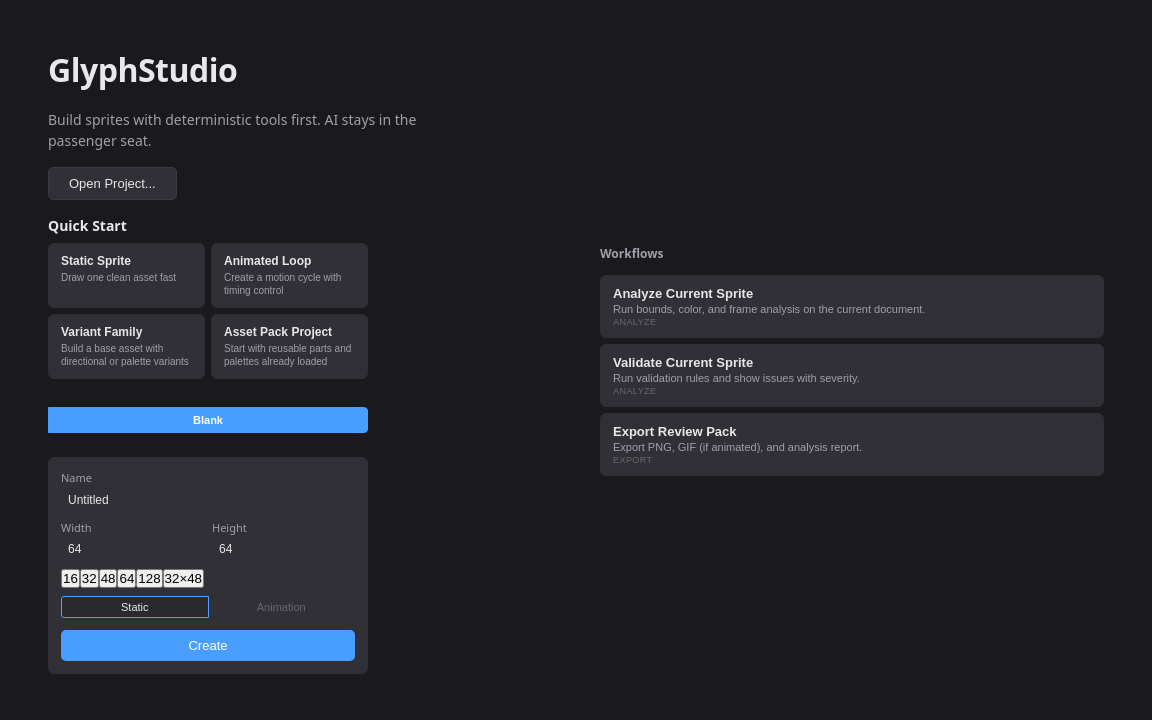
it: ProjectHome › interactions › animation mode shows frame count and duration inputs
# Switch to animation mode
Click the button "Animation" at [282, 607], box [208,596,355,618]
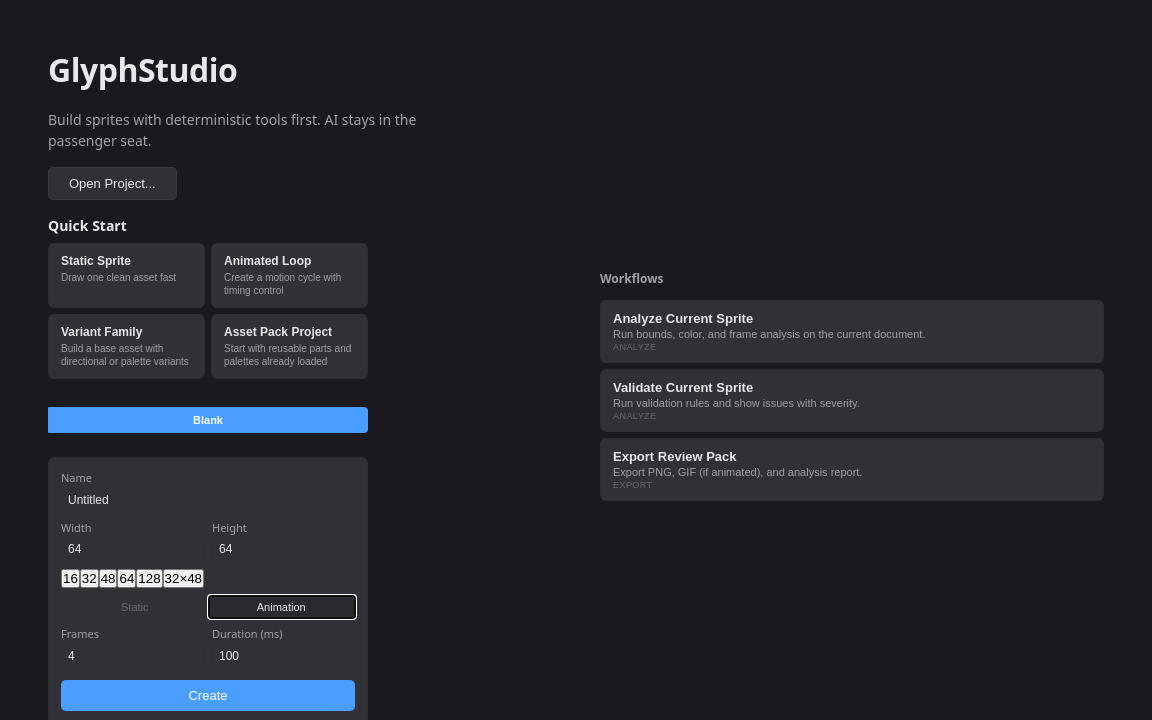
Check: the number field with test id "create-frames" is shown, box [61,644,204,668]
Check: the number field with test id "create-duration" is shown, box [212,644,355,668]
